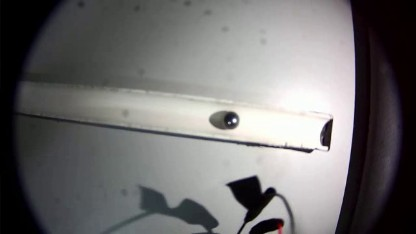gangzhu: (222, 110, 238, 127)
